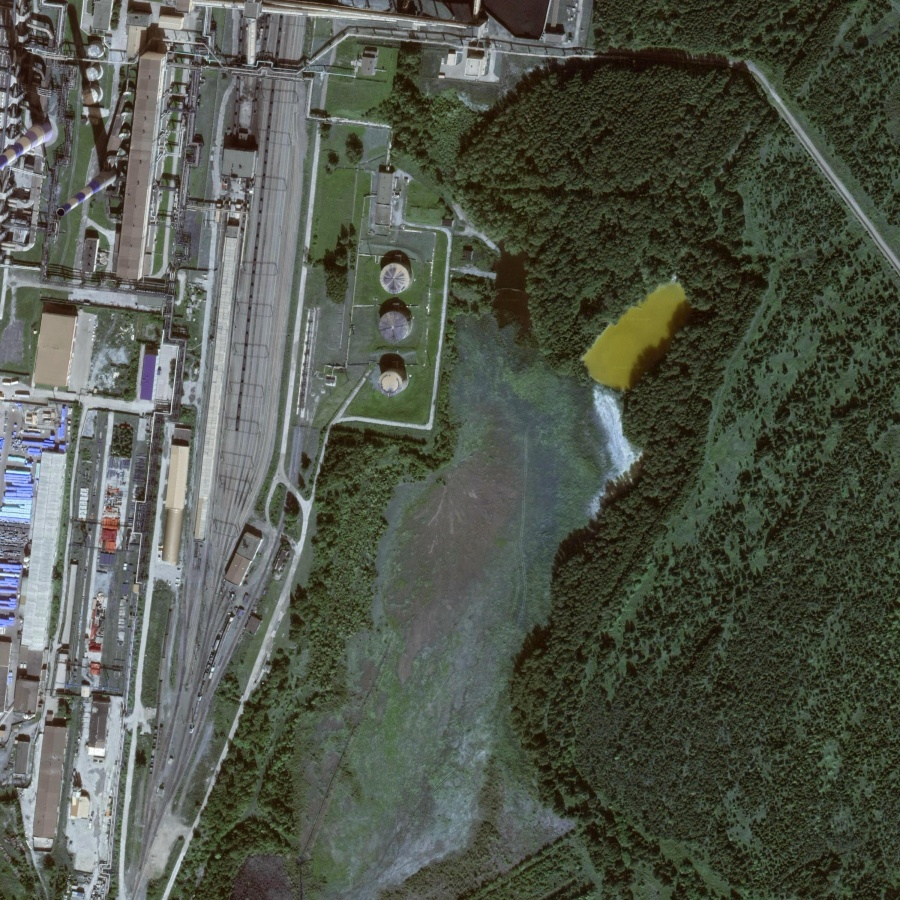PowerPlant: (301, 236, 449, 411)
